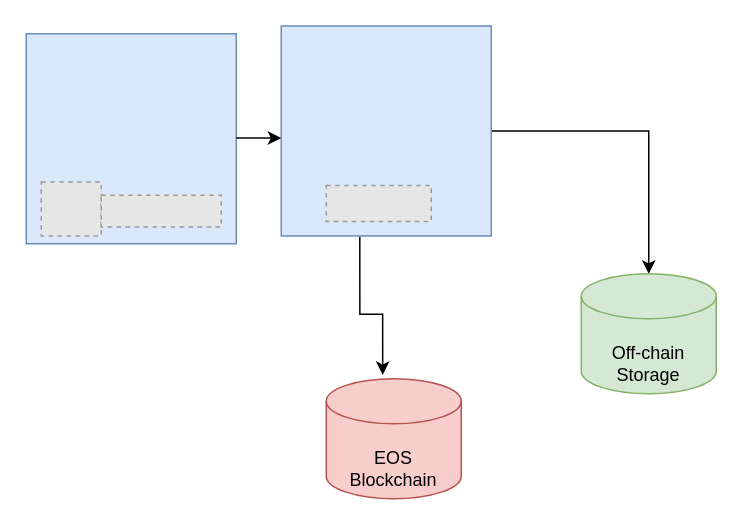
This 743x527 diagram has some shape labels left out. Grey dashed boxes stand in for pictures. The box of each missing label's shape, as (x1, y1, x2, y2) in pixels:
Business Processes Camunda Engine: (280, 24, 491, 236)
User Interface/Robot Interface React/ROS: (25, 32, 236, 244)
